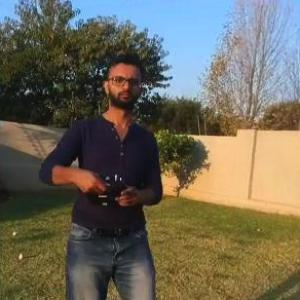follow: (36, 48, 166, 299)
